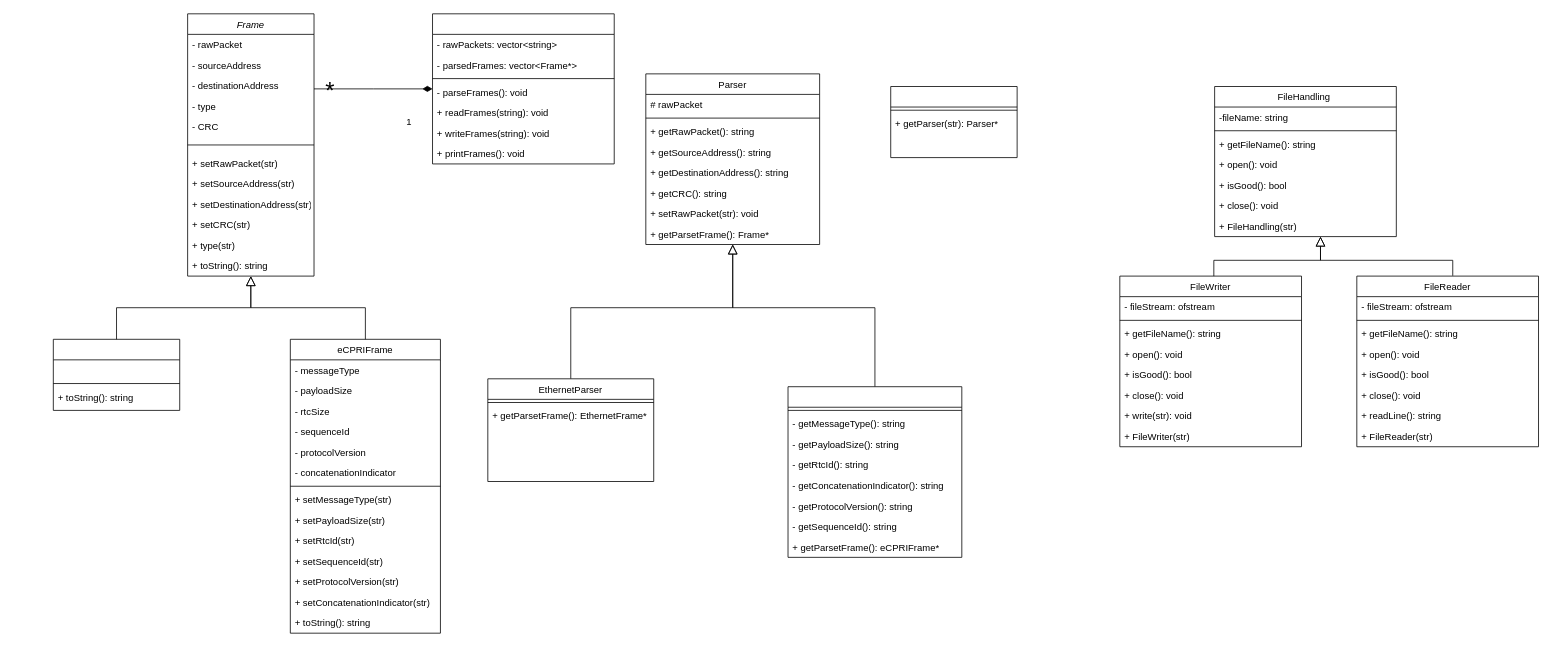
The diagram is 1552 pixels wide and 649 high, and some of its shapes have lost their labels. The box of each missing label's shape, as (x1, y1, x2, y2) in pixels:
ECPRIParser: (787, 386, 962, 557)
EthernetFrame: (53, 339, 180, 410)
ParserFactory: (890, 86, 1017, 158)
Runner: (432, 13, 614, 164)
